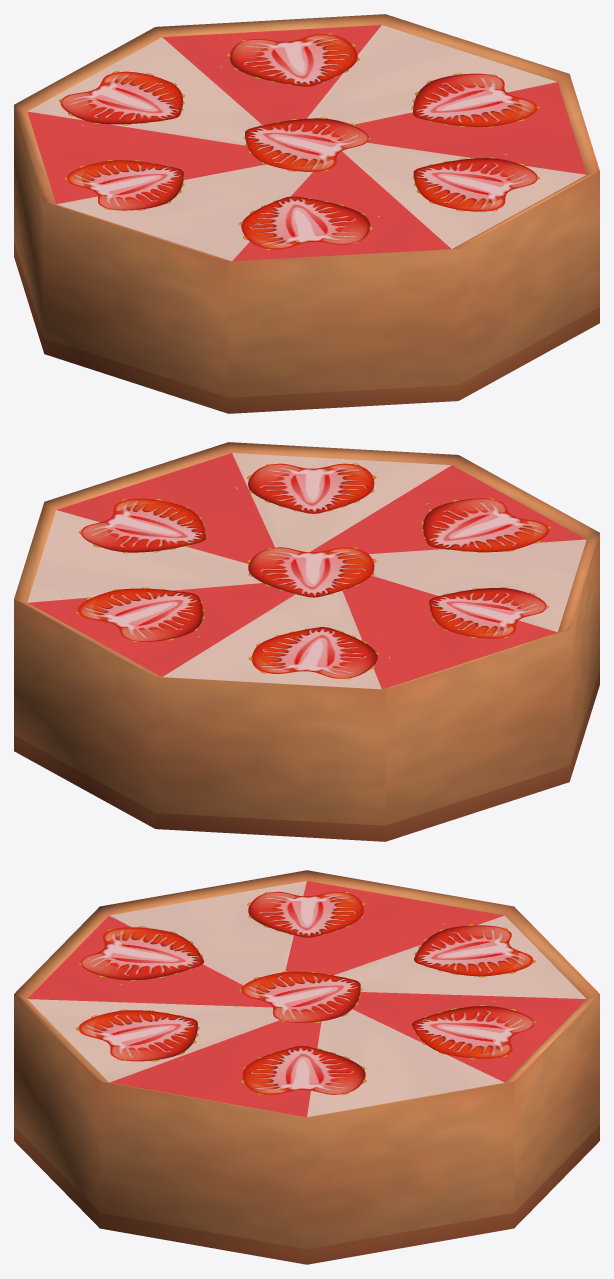
Rendered from Cheesecake_C_2.FBX.
The picture shows the model from 3 angles, top to bottom: view 1: azimuth 30°, elevation 25°; view 2: azimuth 150°, elevation 25°; view 3: azimuth 270°, elevation 25°; orthographic projection. The views are drawn at different scales.
Visible parts, largest first — view 1: Cheesecake_B; view 2: Cheesecake_B; view 3: Cheesecake_B.
Boxes of the visible parts, x1,y1,x2,y2 form: Cheesecake_B: (14, 14, 599, 413); Cheesecake_B: (14, 442, 599, 841); Cheesecake_B: (14, 870, 599, 1264).
Size of the model in its own units: 85.22 by 23.58 by 85.22.
